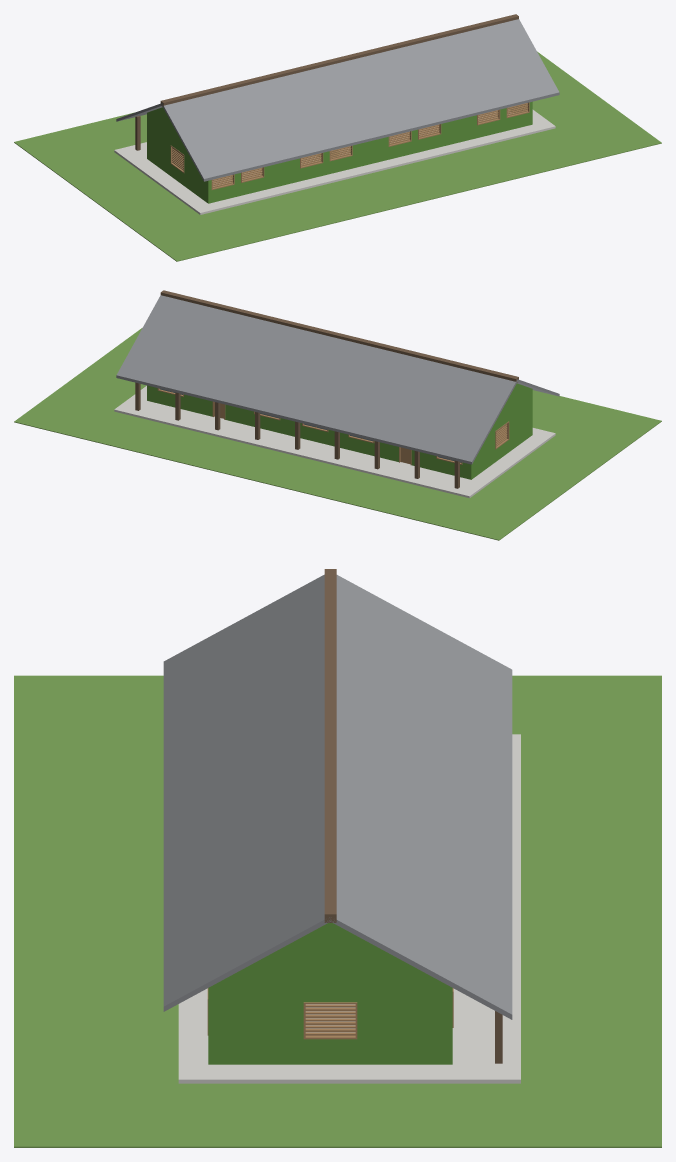
The model's file is fila_admision.glb.
3 renders of one model, top to bottom at view 1: azimuth 30°, elevation 25°; view 2: azimuth 150°, elevation 25°; view 3: azimuth 270°, elevation 25°, orthographic. The views are drawn at different scales.
Visible parts, largest first — view 1: Admisión y Matrícula / Secretaría de Sede; view 2: Admisión y Matrícula / Secretaría de Sede; view 3: Admisión y Matrícula / Secretaría de Sede.
Boxes of the visible parts, box(x1,y1,x2,y2) form: Admisión y Matrícula / Secretaría de Sede: box(14, 14, 661, 261); Admisión y Matrícula / Secretaría de Sede: box(14, 290, 661, 540); Admisión y Matrícula / Secretaría de Sede: box(14, 569, 661, 1147).
Size of the model in its own units: 37.43 by 6.33 by 21.77.
